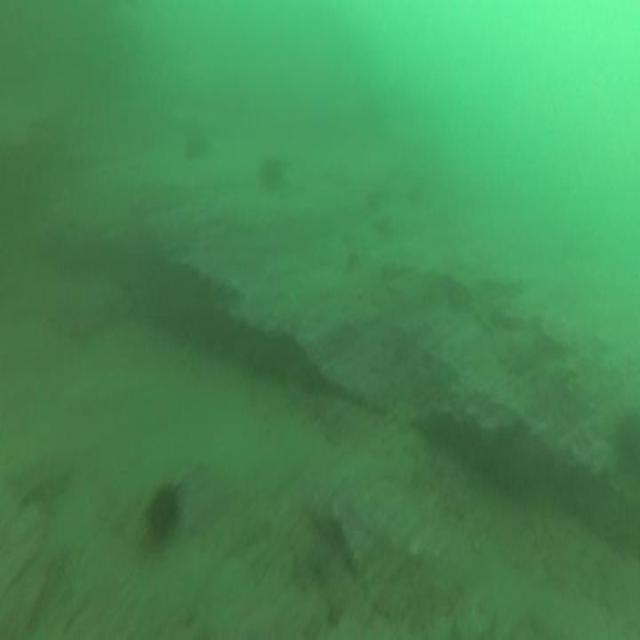echinus: (141, 472, 184, 544), (610, 405, 640, 482), (255, 150, 287, 201), (180, 123, 212, 166)
